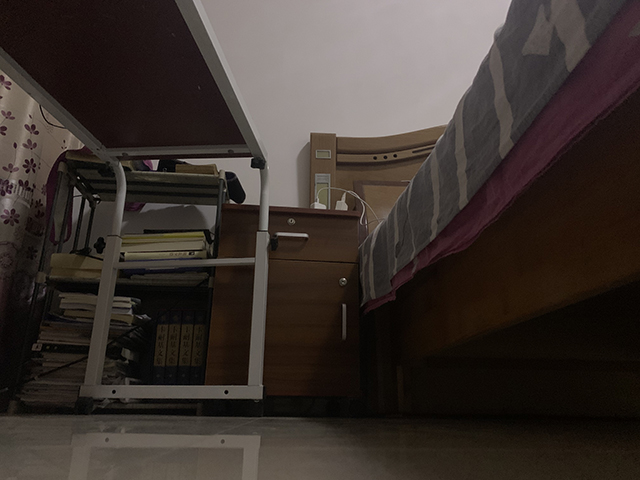bed: (308, 1, 640, 417)
book: (16, 290, 151, 412)
cabinet: (201, 202, 366, 414)
table: (1, 2, 274, 404)
wire: (310, 178, 384, 225)
